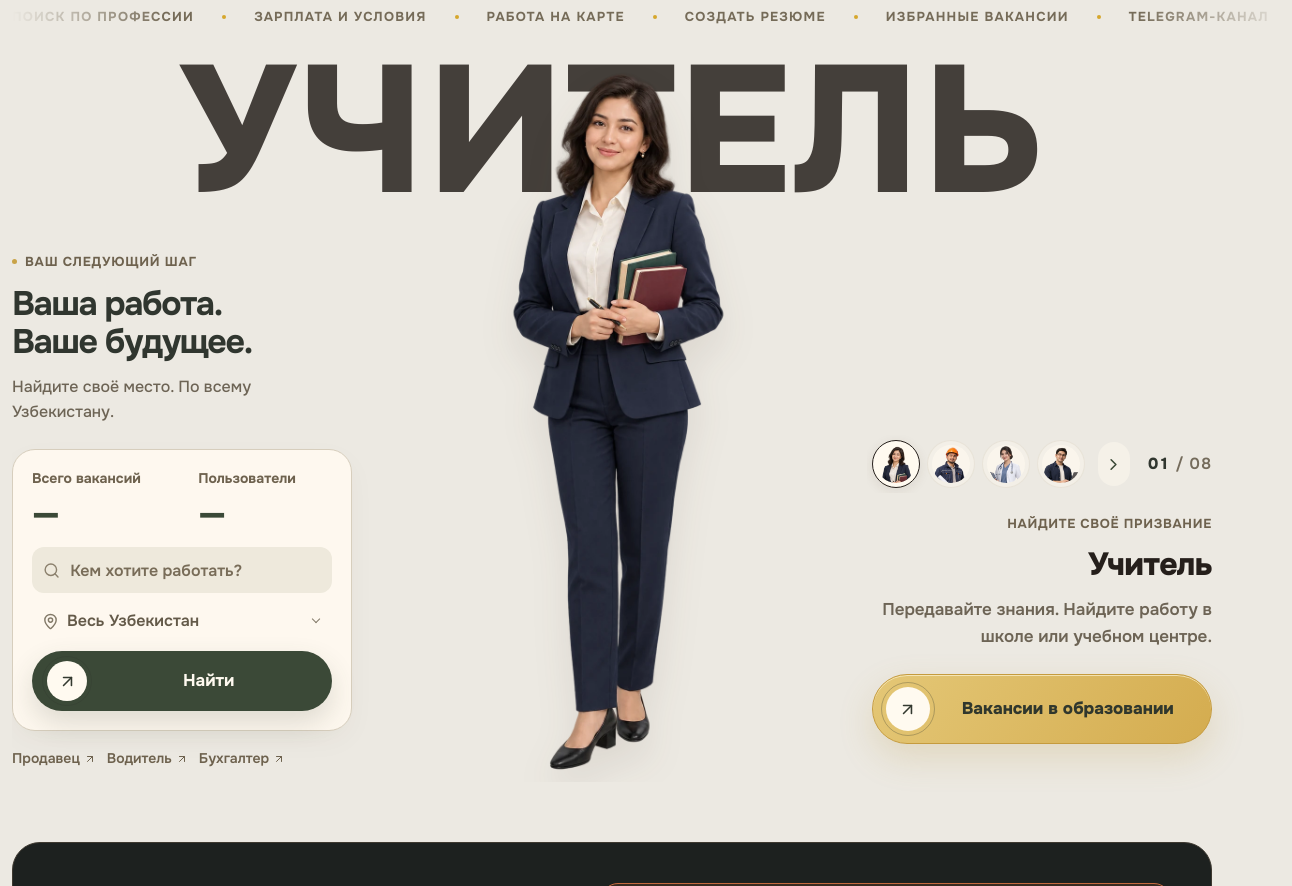
Строитель links to its real catalog category with the selected region
The width and height of the screenshot is (1292, 886).
Select "Ташкент" in the dropdown named "Регион". click: (195, 621)
box: [67,600,322,642]
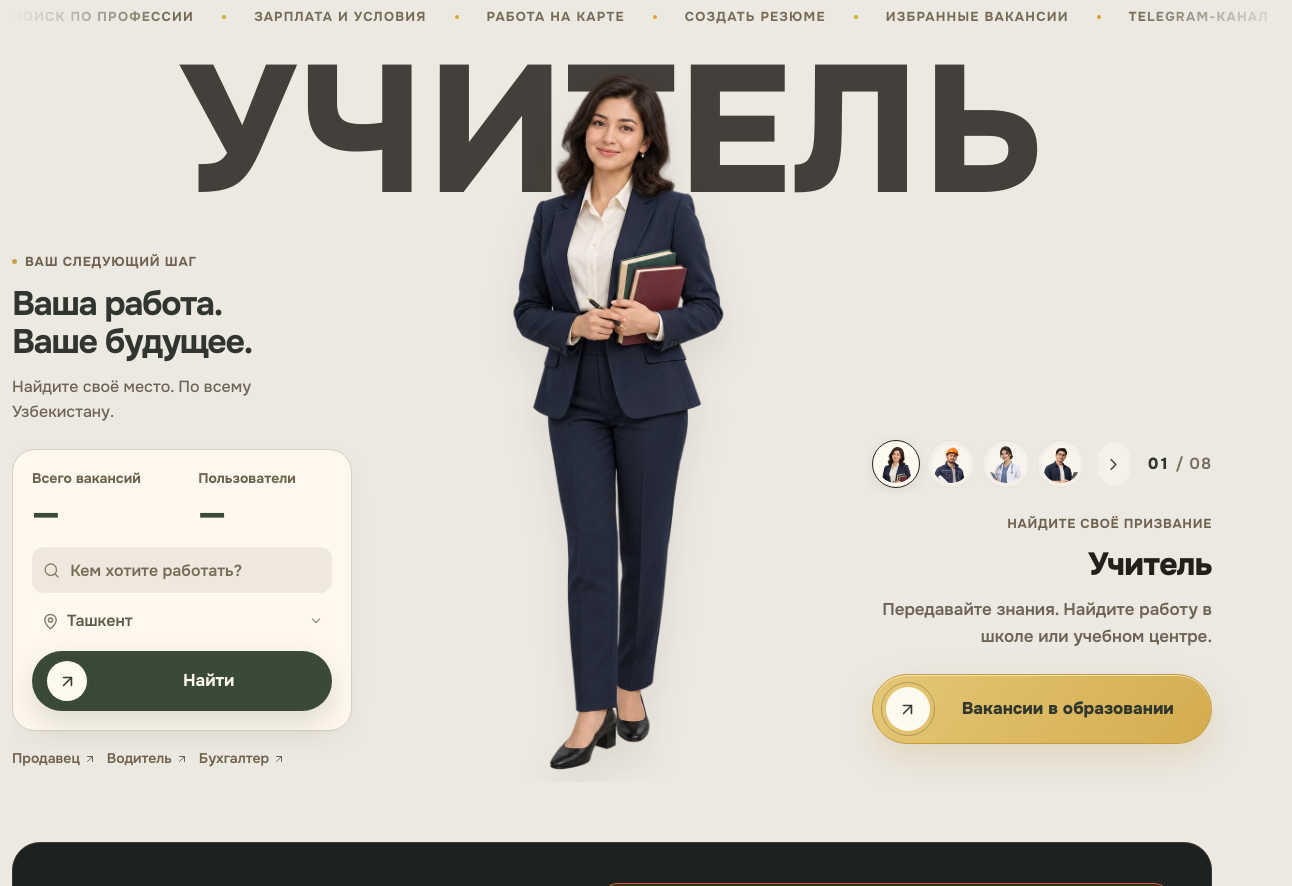
Click the button named "Строитель". click: click(951, 464)
box: [927,440,975,488]
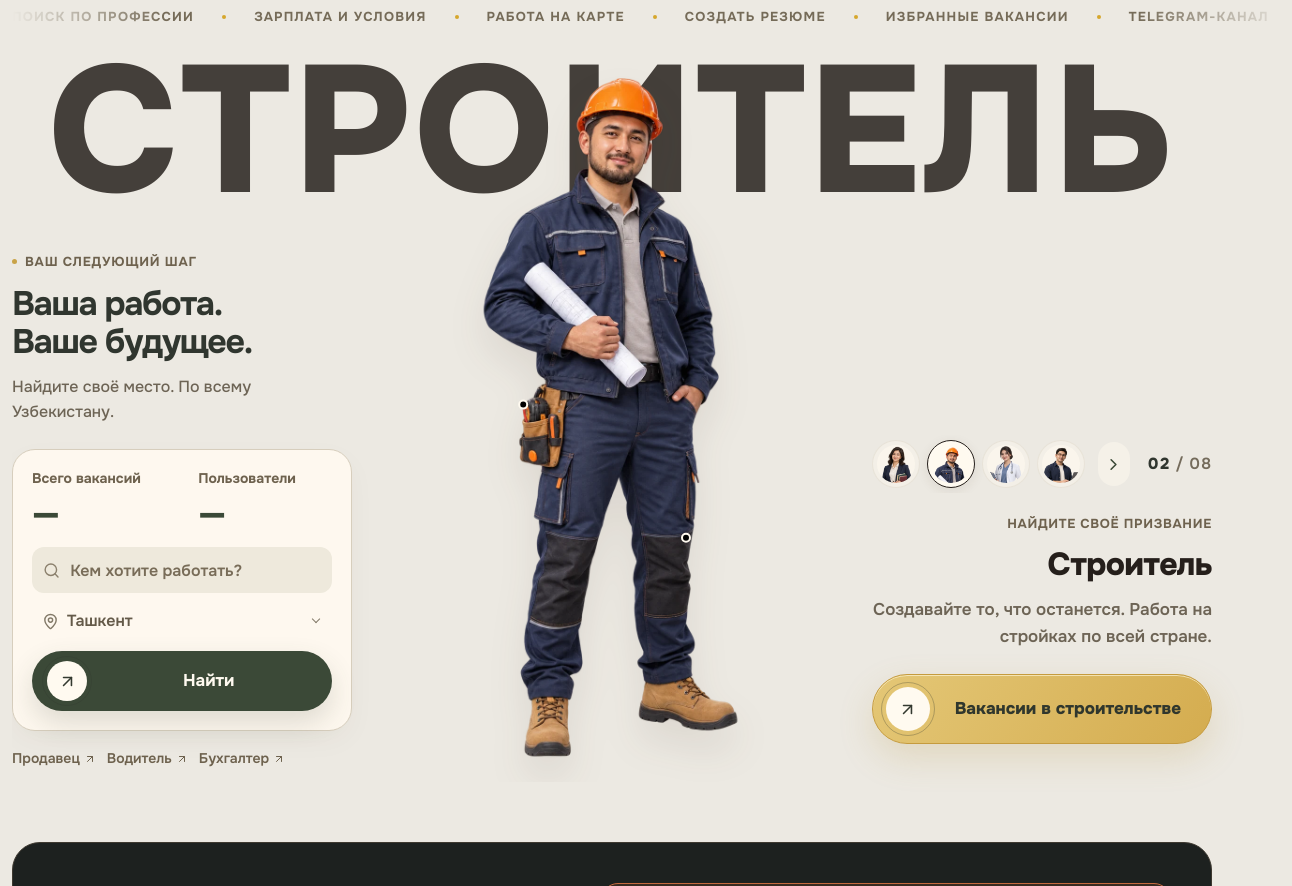
Check: the element showing "С т р о и т е л ь" is shown, box [12,42,1212,222]
